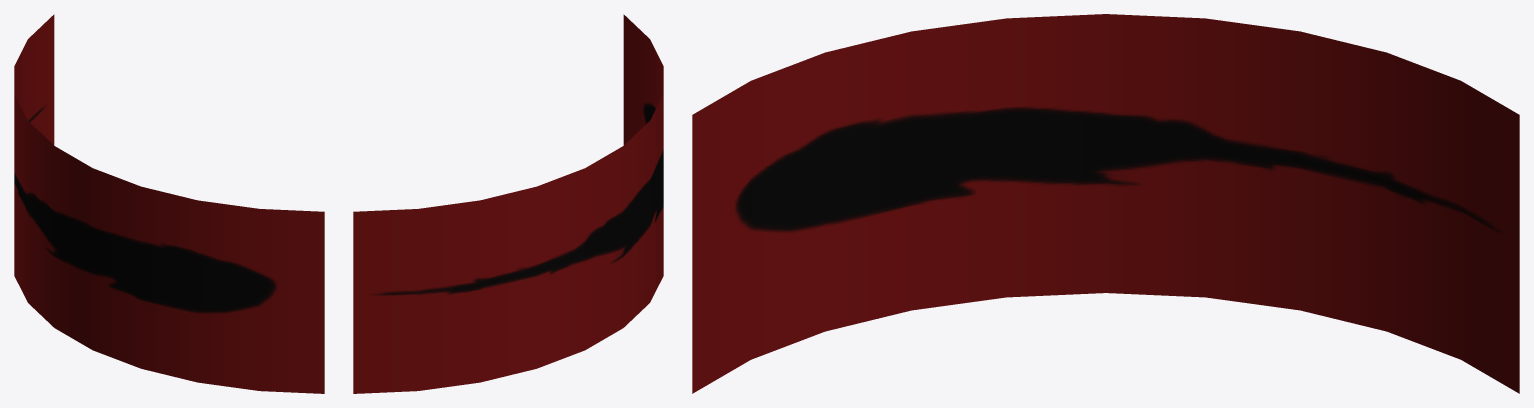
File: ef-common-w1-skill0007-0002.FBX
The picture shows the model from 3 angles, left to right: view 1: azimuth 30°, elevation 25°; view 2: azimuth 150°, elevation 25°; view 3: azimuth 270°, elevation 25°; orthographic projection. The views are drawn at different scales.
Visible parts, largest first — view 1: Share_Roation_Line; view 2: Share_Roation_Line; view 3: Share_Roation_Line.
Part boxes in pixels (x1,y1,x2,y2): Share_Roation_Line: [14, 14, 324, 393]; Share_Roation_Line: [353, 14, 663, 393]; Share_Roation_Line: [692, 14, 1519, 393].
Size of the model in its own units: 31.04 by 40 by 108.
